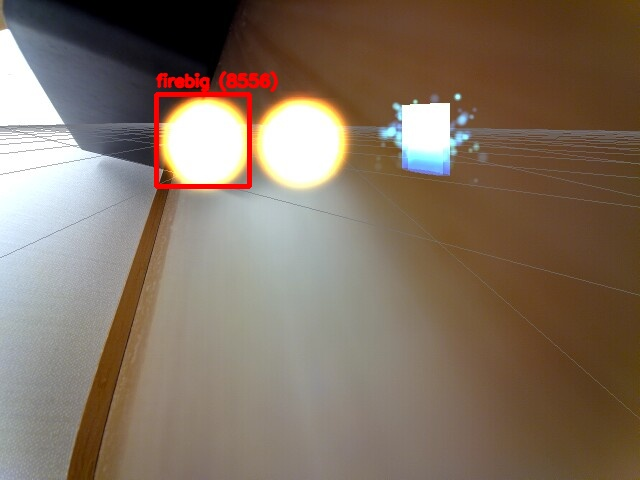firebig: (156, 94, 249, 186)
